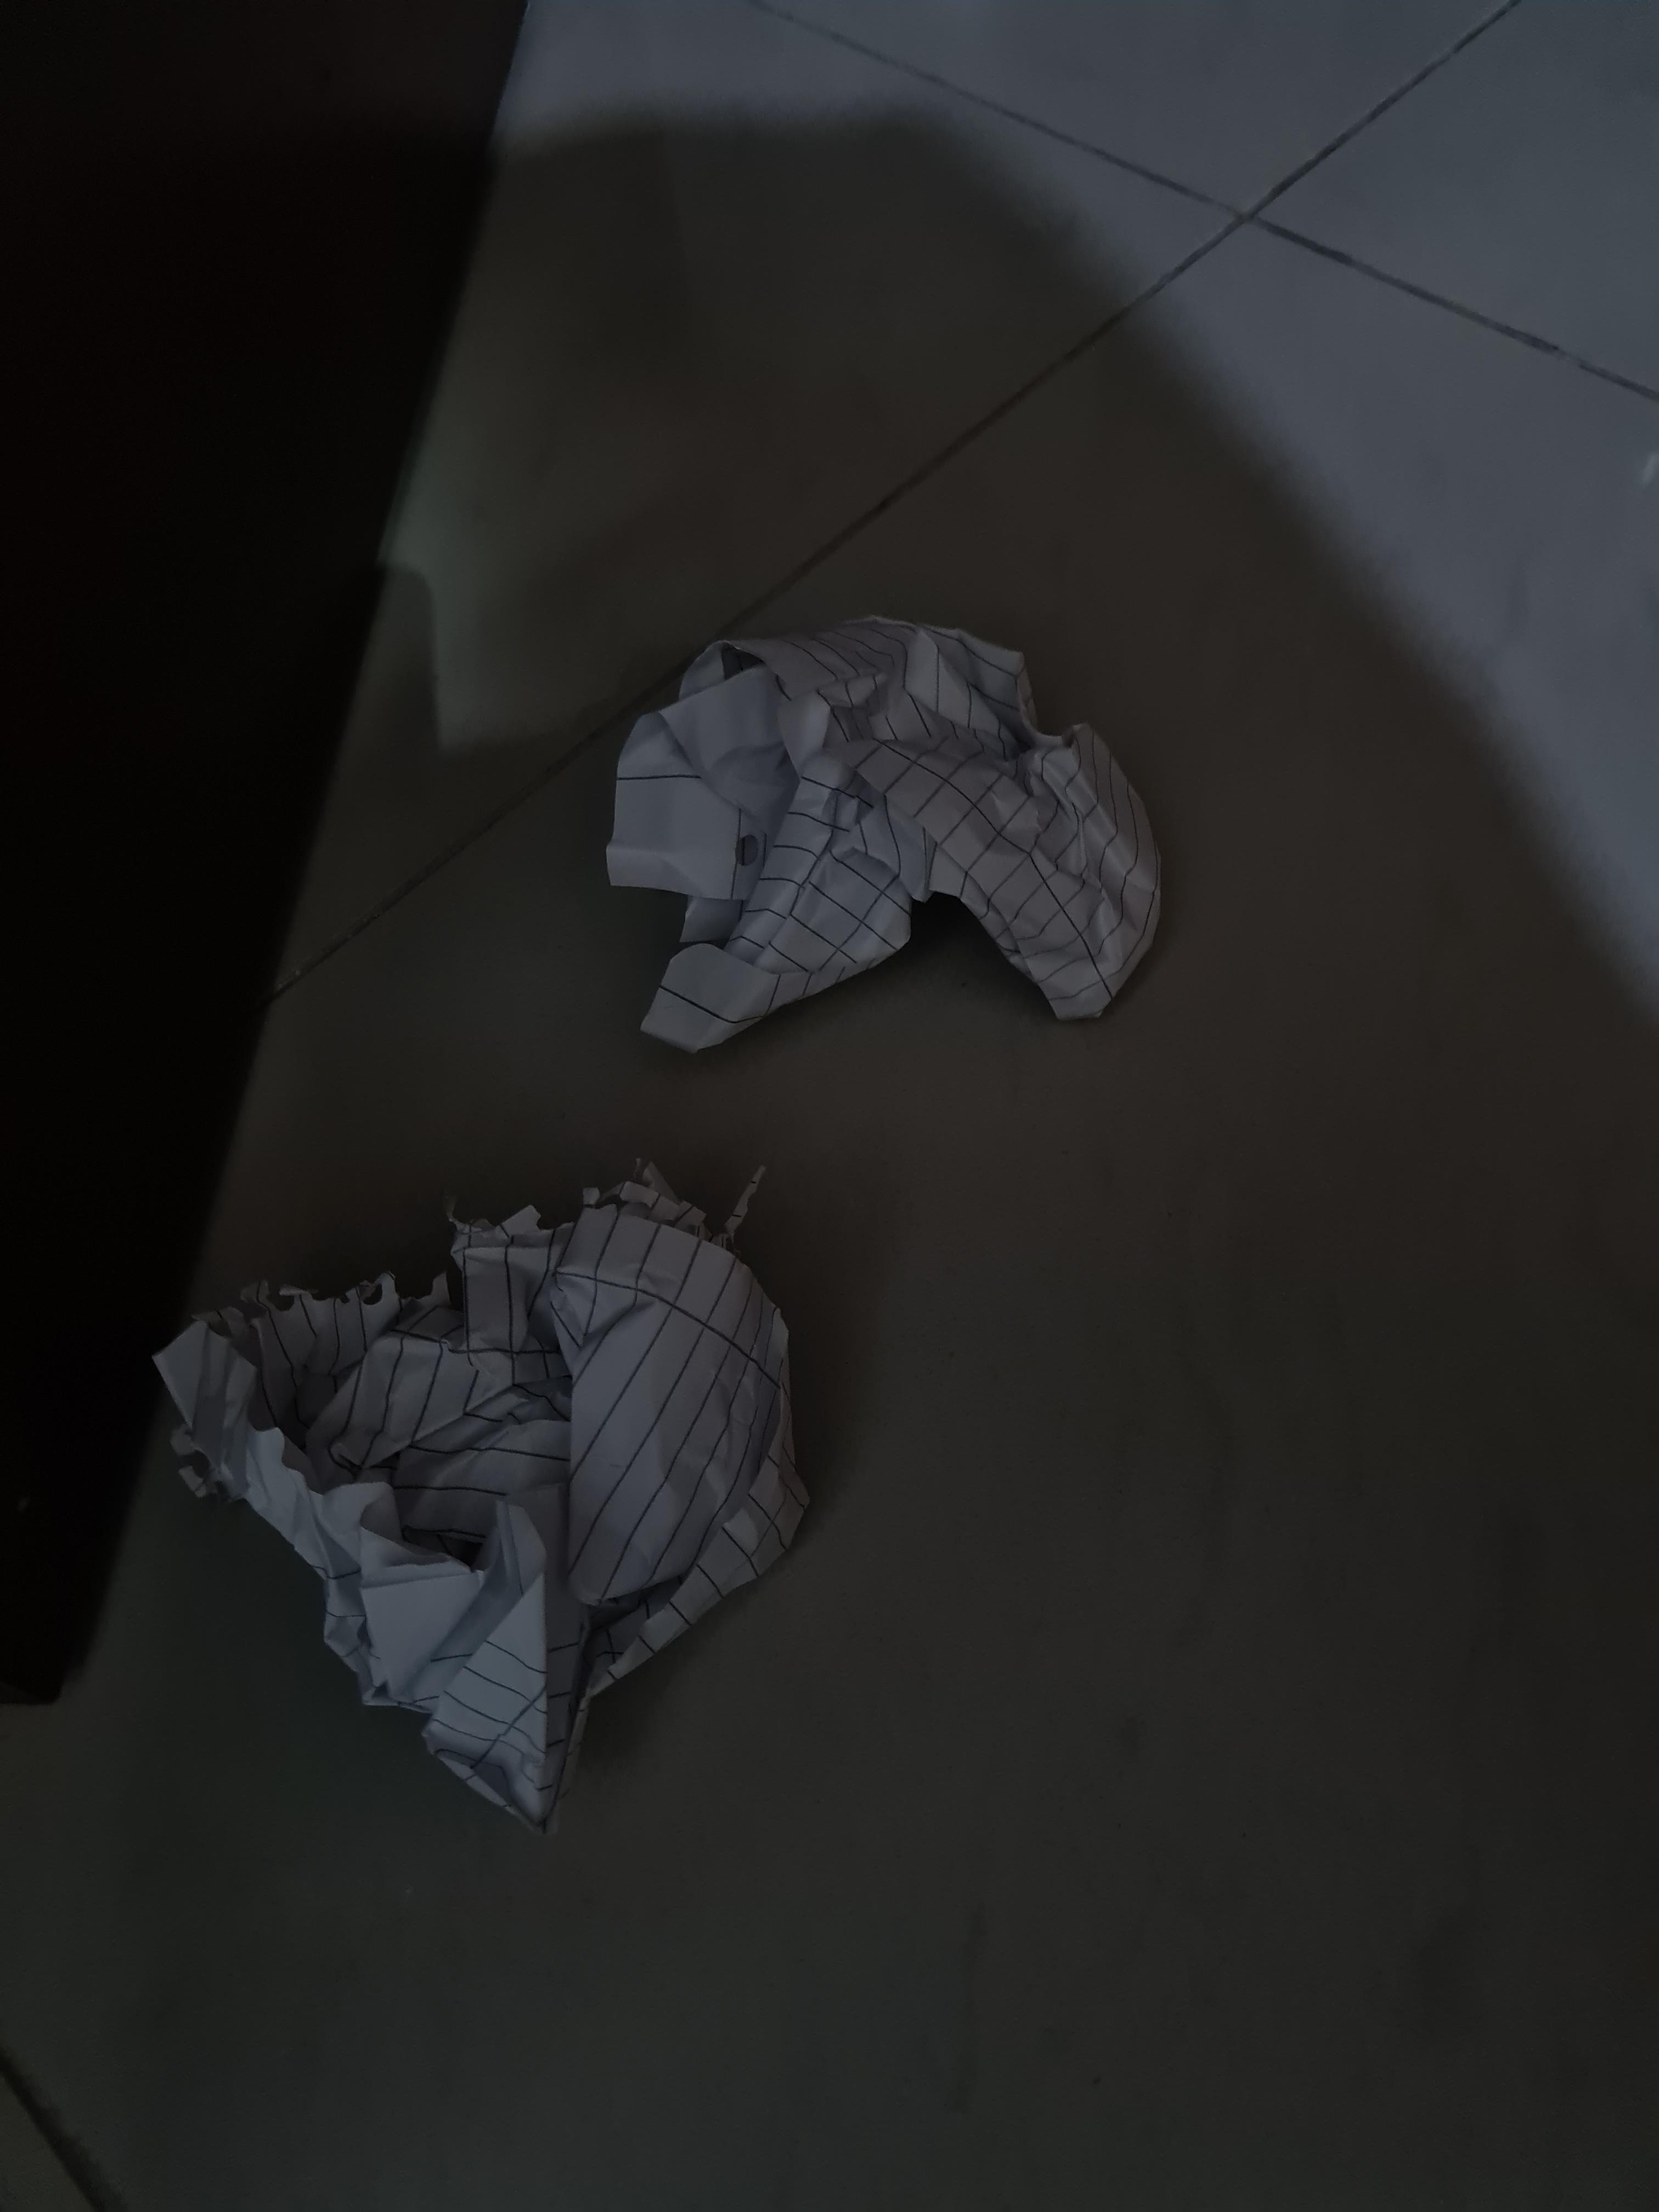Paper: (166, 1126, 825, 1790), (621, 616, 1176, 1038)
